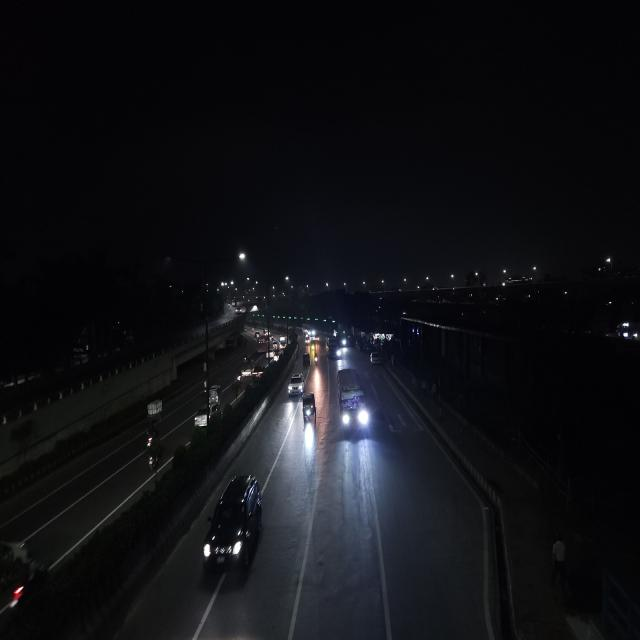bus: (336, 366, 368, 441), (325, 336, 342, 360)
car: (198, 468, 266, 585), (0, 534, 46, 636), (192, 403, 220, 431), (287, 371, 305, 396), (368, 348, 382, 368), (266, 346, 274, 361)
cng: (301, 391, 317, 427), (205, 380, 222, 404), (301, 351, 311, 370), (310, 338, 316, 352)
motorcycle: (144, 440, 162, 473), (143, 426, 157, 451), (313, 353, 319, 367)
pedestrian: (548, 533, 571, 587)
pickup_van: (241, 358, 254, 378)
rickshaw: (144, 404, 161, 424)
